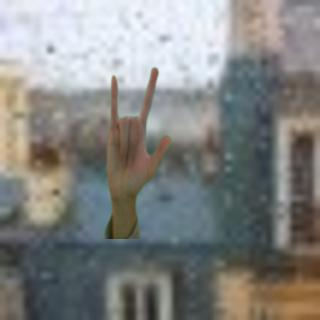ILY: (97, 63, 179, 205)
